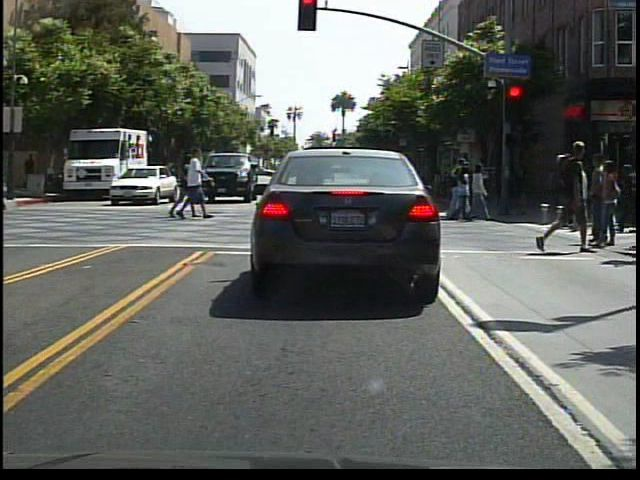person: (540, 134, 604, 264), (556, 155, 592, 235), (174, 150, 211, 227), (294, 154, 328, 215)
